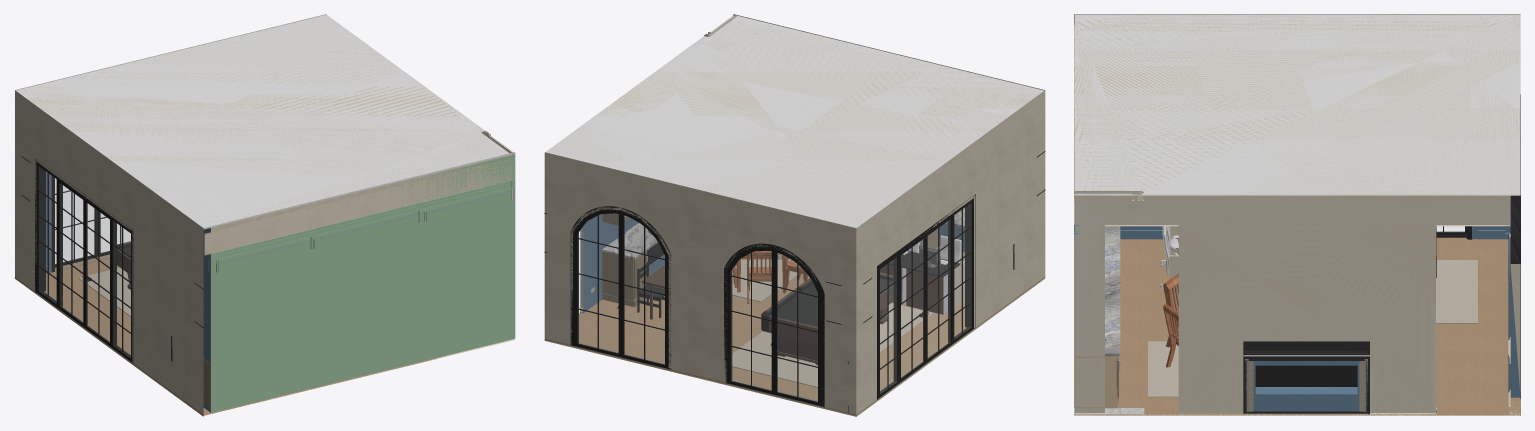
Rendered from game-room-c3d43962c5ca.glb.
3 renders of one model, left to right at view 1: azimuth 30°, elevation 25°; view 2: azimuth 150°, elevation 25°; view 3: azimuth 270°, elevation 25°, orthographic. The views are drawn at different scales.
Visible parts, largest first — view 1: game-room-4a969f5cc1ae3dfe, game-room-30c5953c9ad73e5d, game-room-039192b0560cfac3, game-room-50d54560d247b537, game-room-9fbf623a647a21dd, game-room-2575515a05775d9e, game-room-3b0077416469e01b, game-room-67b6630d0fa028c8, game-room-8b1c368f4645b32b, game-room-bd62734a7bc60eb7, game-room-67f50005143d10e9, game-room-76fec1e12e3db62a; view 2: game-room-4a969f5cc1ae3dfe, game-room-969b861f9850351e, game-room-039192b0560cfac3, game-room-50d54560d247b537, game-room-67b6630d0fa028c8, game-room-b7bc8997c06ae95e, game-room-9fbf623a647a21dd, game-room-3b0077416469e01b, game-room-7e27048eb38fd2e0, game-room-67f50005143d10e9, game-room-7702f65bebcbcfe5, game-room-3e6709f91b43c3bf (+7 smaller); view 3: game-room-4a969f5cc1ae3dfe, game-room-3e6709f91b43c3bf, game-room-50d54560d247b537, game-room-55ff1dfd7b659ec1, game-room-3b0077416469e01b, game-room-be466a48328c943d, game-room-7ee86ede15340c02, game-room-67f50005143d10e9, game-room-b441e3c3bf4dbad3, game-room-6406bffcd6948b80, game-room-17e2c43ba4c79eae, game-room-969b861f9850351e (+8 smaller).
Boxes of the visible parts, bbox=[...] form: game-room-4a969f5cc1ae3dfe: bbox=[15, 14, 511, 229]; game-room-30c5953c9ad73e5d: bbox=[210, 155, 515, 412]; game-room-039192b0560cfac3: bbox=[15, 92, 210, 414]; game-room-50d54560d247b537: bbox=[15, 14, 512, 228]; game-room-9fbf623a647a21dd: bbox=[35, 158, 133, 363]; game-room-2575515a05775d9e: bbox=[204, 158, 515, 255]; game-room-3b0077416469e01b: bbox=[15, 254, 513, 415]; game-room-67b6630d0fa028c8: bbox=[51, 176, 130, 272]; game-room-8b1c368f4645b32b: bbox=[211, 180, 511, 260]; game-room-bd62734a7bc60eb7: bbox=[203, 153, 515, 231]; game-room-67f50005143d10e9: bbox=[78, 267, 130, 316]; game-room-76fec1e12e3db62a: bbox=[15, 278, 515, 416]; game-room-4a969f5cc1ae3dfe: bbox=[544, 16, 1044, 229]; game-room-969b861f9850351e: bbox=[544, 154, 848, 412]; game-room-039192b0560cfac3: bbox=[849, 92, 1045, 414]; game-room-50d54560d247b537: bbox=[544, 15, 1044, 228]; game-room-67b6630d0fa028c8: bbox=[724, 243, 824, 406]; game-room-b7bc8997c06ae95e: bbox=[570, 206, 671, 369]; game-room-9fbf623a647a21dd: bbox=[877, 194, 975, 399]; game-room-3b0077416469e01b: bbox=[544, 273, 1045, 415]; game-room-7e27048eb38fd2e0: bbox=[761, 272, 902, 364]; game-room-67f50005143d10e9: bbox=[732, 303, 933, 387]; game-room-7702f65bebcbcfe5: bbox=[901, 235, 961, 314]; game-room-3e6709f91b43c3bf: bbox=[582, 214, 638, 312]; game-room-4a969f5cc1ae3dfe: bbox=[1074, 14, 1520, 195]; game-room-3e6709f91b43c3bf: bbox=[1075, 194, 1510, 412]; game-room-50d54560d247b537: bbox=[1074, 14, 1520, 194]; game-room-55ff1dfd7b659ec1: bbox=[1074, 194, 1510, 414]; game-room-3b0077416469e01b: bbox=[1074, 237, 1520, 415]; game-room-be466a48328c943d: bbox=[1243, 341, 1369, 414]; game-room-7ee86ede15340c02: bbox=[1253, 361, 1359, 411]; game-room-67f50005143d10e9: bbox=[1436, 260, 1477, 323]; game-room-b441e3c3bf4dbad3: bbox=[1255, 365, 1357, 386]; game-room-6406bffcd6948b80: bbox=[1105, 254, 1120, 356]; game-room-17e2c43ba4c79eae: bbox=[1148, 341, 1178, 397]; game-room-969b861f9850351e: bbox=[1510, 194, 1520, 414].
Size of the model in its own units: 6.15 by 3.56 by 6.46.
Materials: 55 (14 with a texture image).
